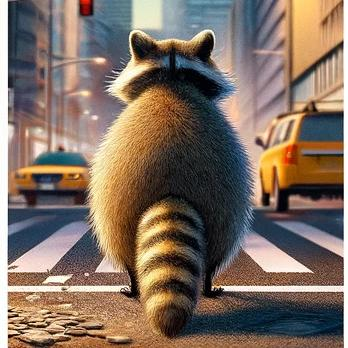raccoon: (81, 23, 262, 345)
